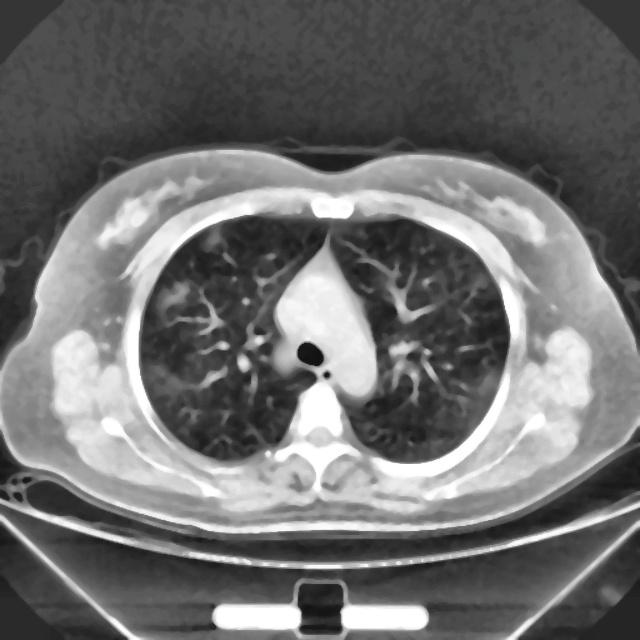covid: (1, 143, 638, 542)
